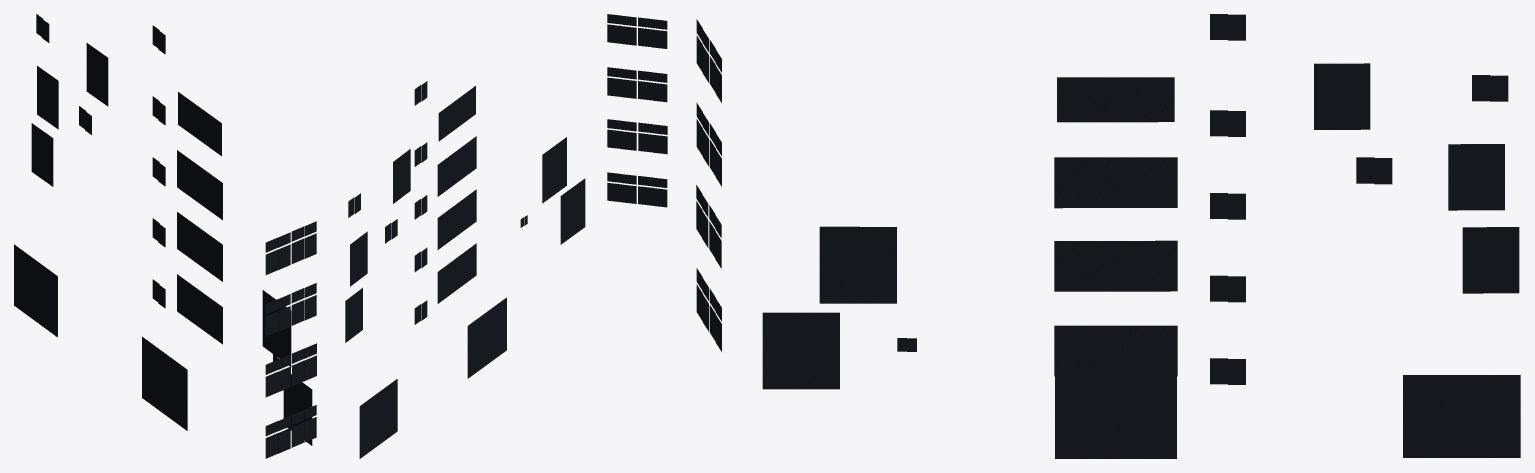
Rendered from TWBuildingL_g_GlassB_Mesh.fbx.
3 renders of one model, left to right at view 1: azimuth 30°, elevation 25°; view 2: azimuth 150°, elevation 25°; view 3: azimuth 270°, elevation 25°, orthographic. The views are drawn at different scales.
Parts seen in each view (by area): view 1: TWBuildingL_g_GlassB_Mesh; view 2: TWBuildingL_g_GlassB_Mesh; view 3: TWBuildingL_g_GlassB_Mesh.
Part boxes in pixels (x1,y1,x2,y2): TWBuildingL_g_GlassB_Mesh: (14, 14, 316, 458); TWBuildingL_g_GlassB_Mesh: (345, 14, 667, 458); TWBuildingL_g_GlassB_Mesh: (696, 14, 1520, 458).
Size of the model in its own units: 464 by 1697 by 2710.
1 material, 1 textured.
